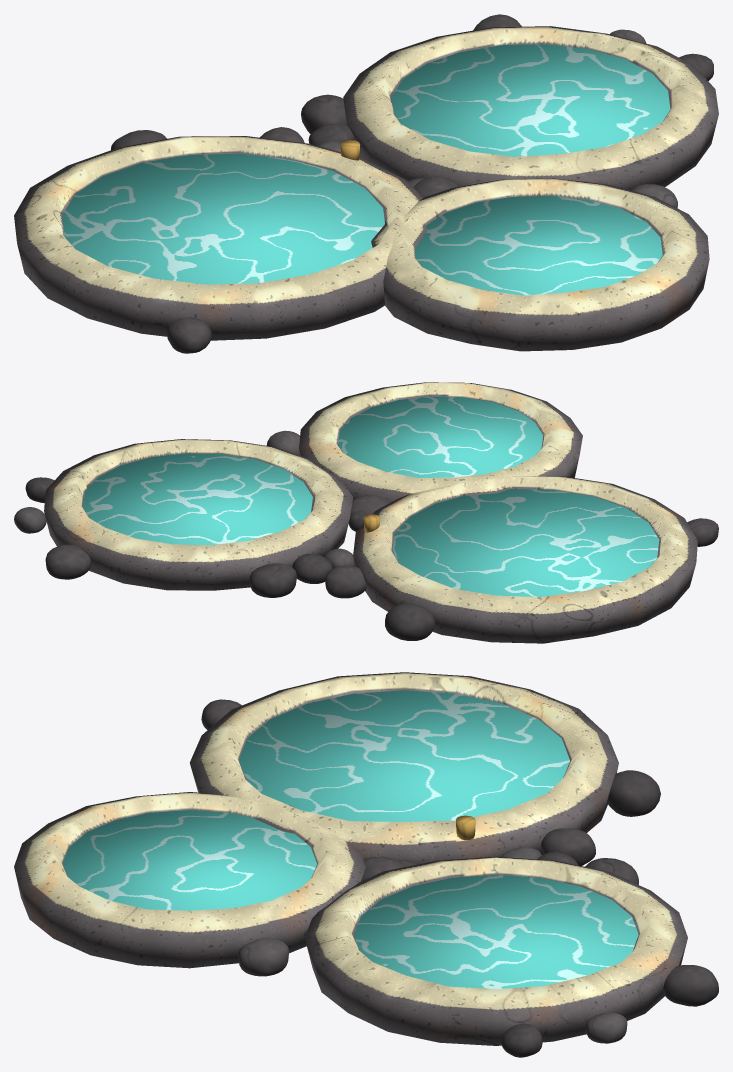
The model's file is hot_springs.glb.
The picture shows the model from 3 angles, top to bottom: view 1: azimuth 30°, elevation 25°; view 2: azimuth 150°, elevation 25°; view 3: azimuth 270°, elevation 25°; orthographic projection. The views are drawn at different scales.
Visible parts, largest first — view 1: HotSprings; view 2: HotSprings; view 3: HotSprings.
Boxes of the visible parts, bbox=[...] form: HotSprings: bbox=[14, 14, 718, 353]; HotSprings: bbox=[14, 382, 718, 643]; HotSprings: bbox=[14, 672, 718, 1057].
Size of the model in its own units: 5.59 by 0.4078 by 4.6.
1 material, 1 textured.
